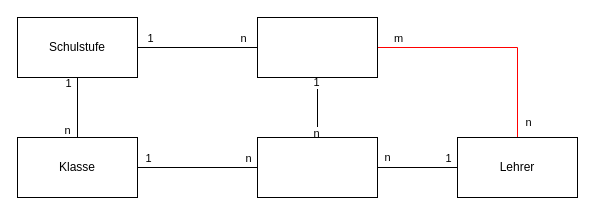
This 595x215 diagram has some shape labels left out. The shapes that lost their labels are listed below. From the top down, each one's box as (x1, y1, x2, y2) in pixels, then its label:
(256, 16, 378, 78): Fach
(256, 136, 378, 198): Klasse_Fach_Lehrer (Stundenplan)
